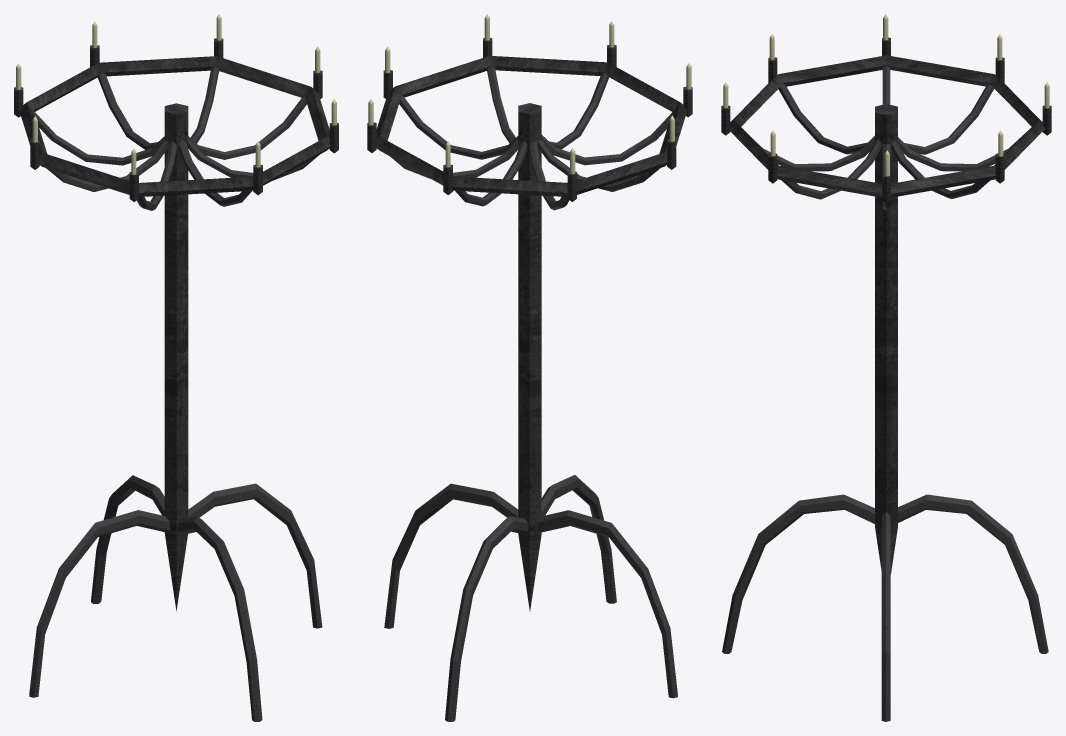
File: Candlebra.fbx
3 renders of one model, left to right at view 1: azimuth 30°, elevation 25°; view 2: azimuth 150°, elevation 25°; view 3: azimuth 270°, elevation 25°, orthographic.
Parts seen in each view (by area): view 1: Candelbra; view 2: Candelbra; view 3: Candelbra.
Part boxes in pixels (x1,y1,x2,y2): Candelbra: [14, 14, 338, 721]; Candelbra: [367, 14, 692, 721]; Candelbra: [721, 14, 1051, 721].
Bounding box in the file's own units: 8.71 × 16.42 × 8.63.
